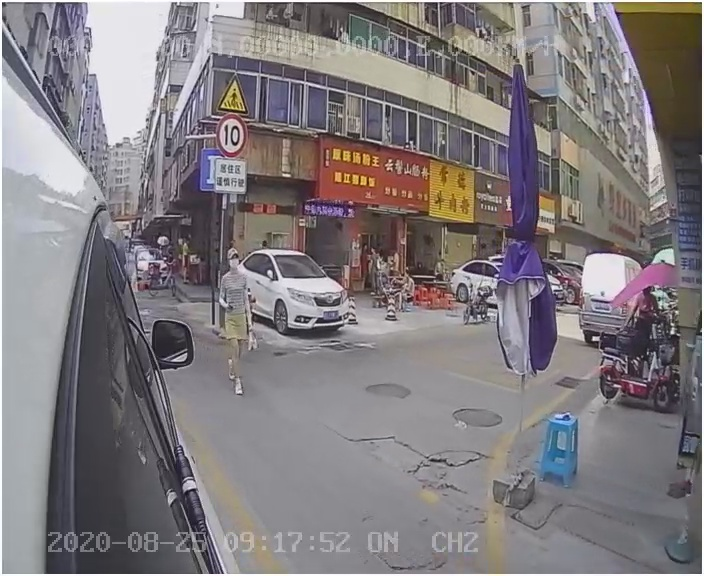person: (207, 246, 266, 397)
